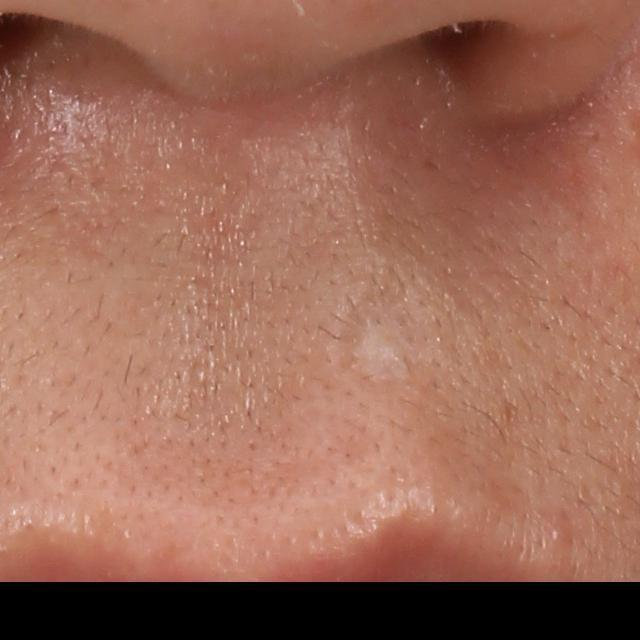comedo: (542, 518, 576, 551)
hypertrophic_scar: (355, 321, 408, 379)
